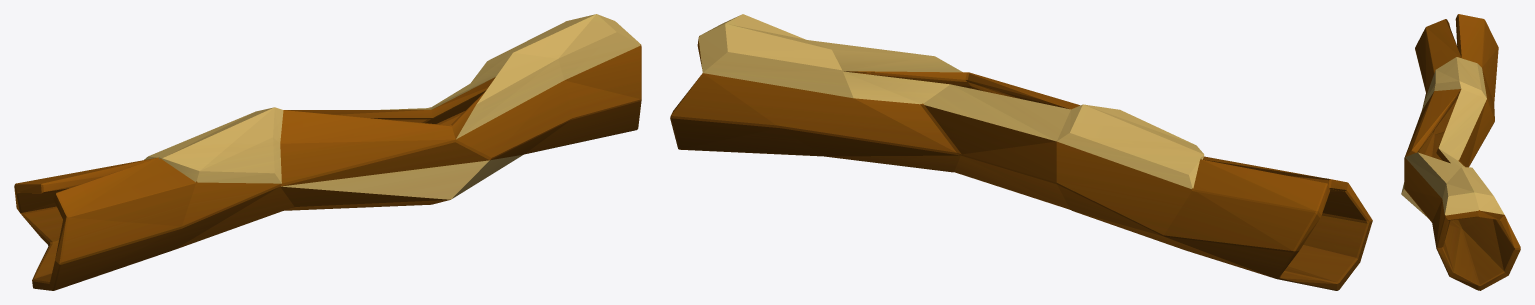
The model's file is log_mossy.glb.
3 renders of one model, left to right at view 1: azimuth 30°, elevation 25°; view 2: azimuth 150°, elevation 25°; view 3: azimuth 270°, elevation 25°, orthographic. The views are drawn at different scales.
Visible parts, largest first — view 1: Wooden Log_1_5_A; view 2: Wooden Log_1_5_A; view 3: Wooden Log_1_5_A.
Boxes of the visible parts, left/top/right/bottom form: Wooden Log_1_5_A: left=14, top=14, right=641, bottom=290; Wooden Log_1_5_A: left=670, top=14, right=1372, bottom=290; Wooden Log_1_5_A: left=1401, top=14, right=1520, bottom=290.
Bounding box in the file's own units: 1.8 × 0.35 × 0.43.
1 material, 1 textured.
